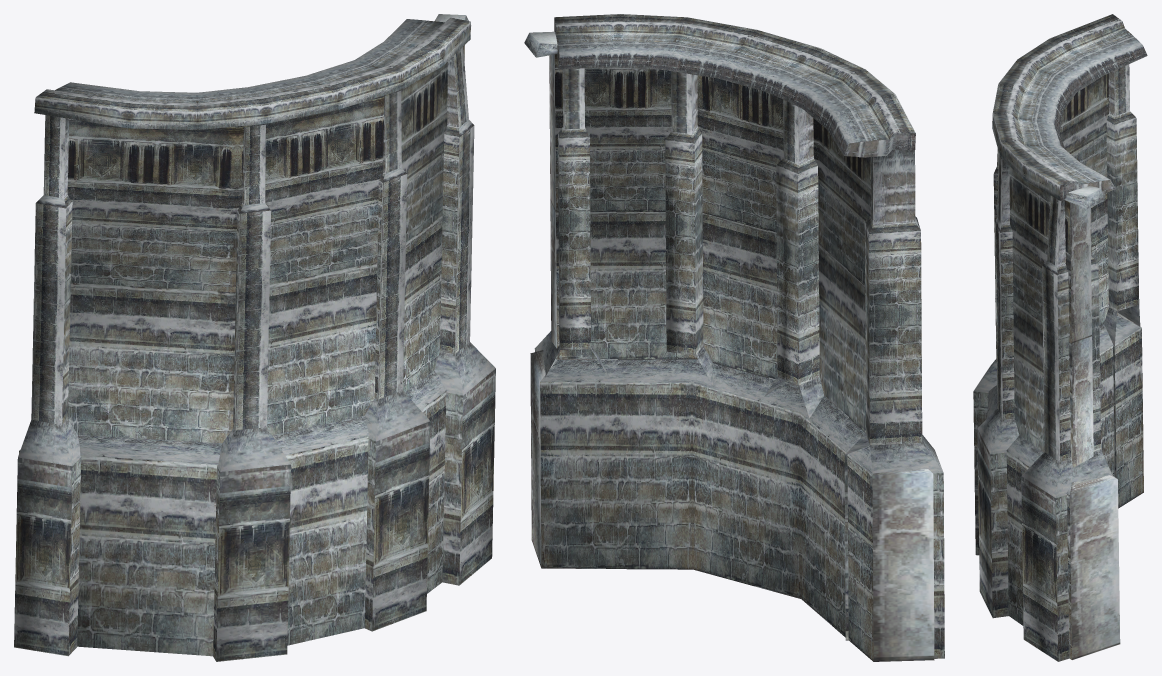
Rendered from S_Build_Snowland127.FBX.
The picture shows the model from 3 angles, left to right: view 1: azimuth 30°, elevation 25°; view 2: azimuth 150°, elevation 25°; view 3: azimuth 270°, elevation 25°; orthographic projection. The views are drawn at different scales.
Visible parts, largest first — view 1: S_Build_Snowland127; view 2: S_Build_Snowland127; view 3: S_Build_Snowland127.
Part boxes in pixels (box(x1,y1,x2,y2)): S_Build_Snowland127: box(14, 14, 495, 661); S_Build_Snowland127: box(524, 14, 944, 661); S_Build_Snowland127: box(973, 14, 1147, 661).
Bounding box in the file's own units: 1465 × 564 × 1673.
